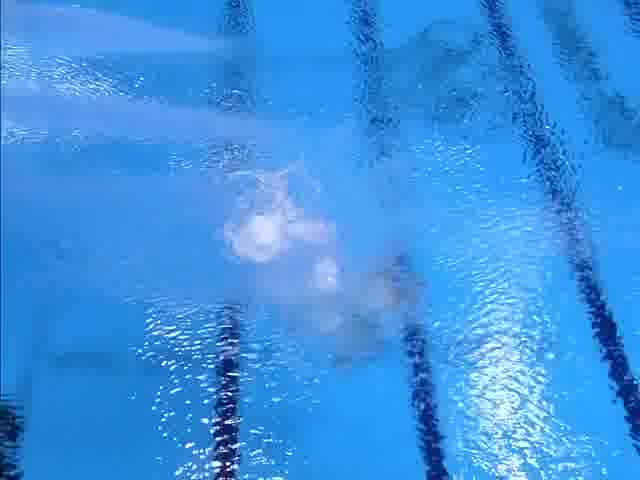splash: (226, 147, 335, 261)
